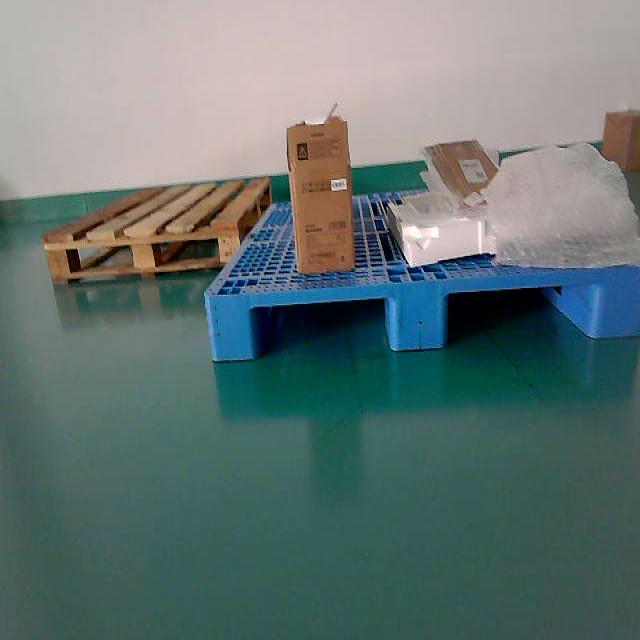euro: (44, 176, 277, 285)
